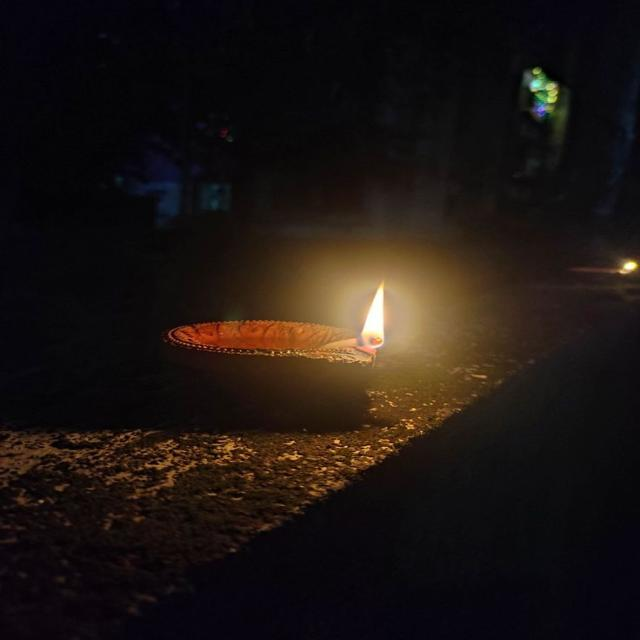fire: (362, 279, 386, 348)
